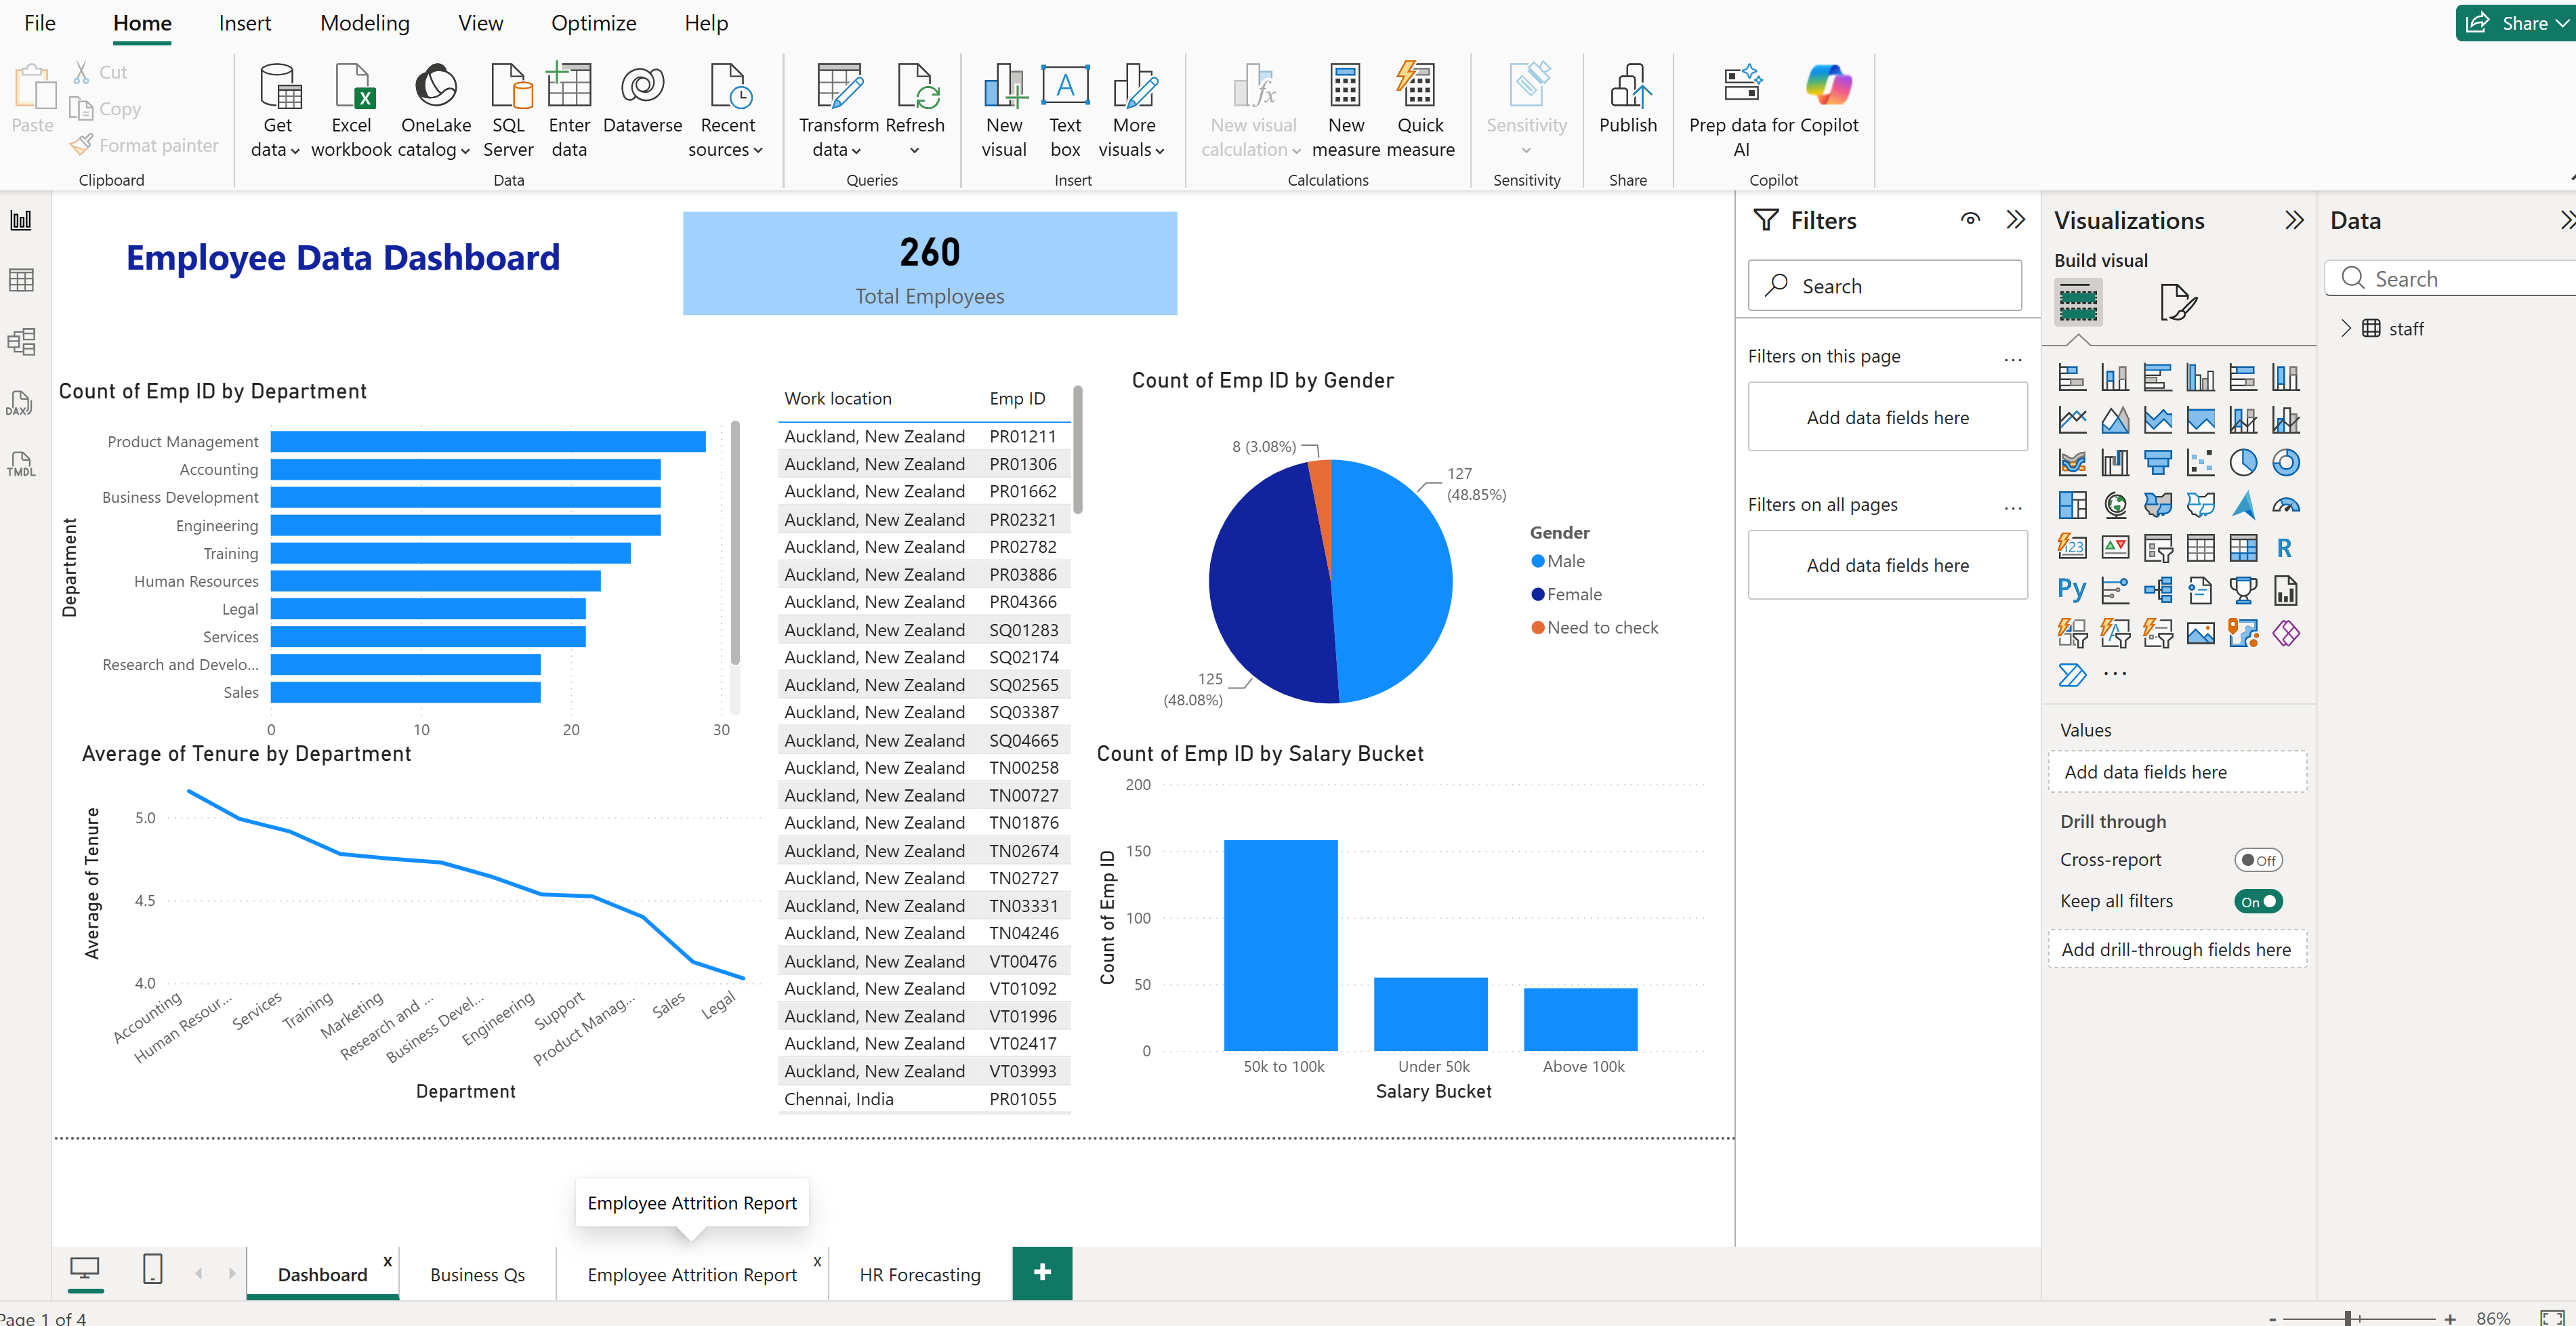

This screenshot's page, from the dashboard's own definition file:
{"tool":"powerbi","page":{"name":"Dashboard","canvas":[1280,720],"ordinal":0},"visuals":[{"type":"card","fields":{"Values":["staff.Total Employees"]},"box":[480.2,16.2,375.8,78.9],"z":0},{"type":"barChart","fields":{"Category":["staff.Department"],"Y":["CountNonNull(staff.Emp ID)"]},"box":[0,142.7,528.9,299.3],"z":1000},{"type":"pieChart","fields":{"Category":["staff.Gender"],"Y":["CountNonNull(staff.Emp ID)"]},"box":[816.6,134.5,419.9,307.4],"z":2000},{"type":"columnChart","fields":{"Category":["staff.Salary Bucket"],"Y":["CountNonNull(staff.Emp ID)"]},"box":[789.9,418.7,472.1,279.5],"z":3000},{"type":"lineChart","fields":{"Category":["staff.Department"],"Y":["Avg(staff.Tenure)"]},"box":[17,419,529,280],"z":4000},{"type":"tableEx","fields":{"Values":["staff.Work location","staff.Emp ID"]},"box":[546.3,142.7,243.6,564.9],"z":5000},{"type":"textbox","box":[0,26.7,443.1,68.4],"z":6000}]}

Visuals, with their boxes on the page's 1280x720 design canvas (x1, y1, x2, y2). These are canvas units, not pixel positions in the 2576x1326 screenshot, which may show the page scaled, cropped or inside an application window:
card - staff.Total Employees: locate(480, 16, 856, 95)
barChart - staff.Department x CountNonNull(staff.Emp ID): locate(0, 143, 529, 442)
pieChart - staff.Gender x CountNonNull(staff.Emp ID): locate(817, 134, 1236, 442)
columnChart - staff.Salary Bucket x CountNonNull(staff.Emp ID): locate(790, 419, 1262, 698)
lineChart - staff.Department x Avg(staff.Tenure): locate(17, 419, 546, 699)
tableEx - staff.Work location x staff.Emp ID: locate(546, 143, 790, 708)
textbox: locate(0, 27, 443, 95)
